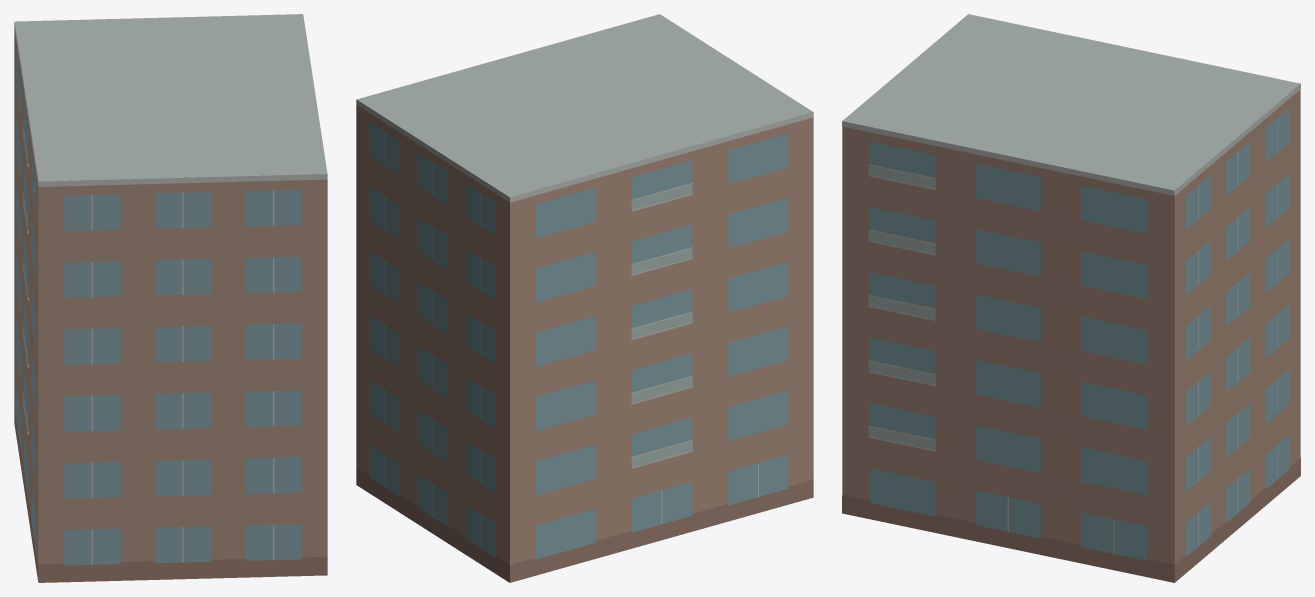
The model's file is survey-upis-32746316.glb.
3 views of the same model, side by side, from view 1: azimuth 30°, elevation 25°; view 2: azimuth 150°, elevation 25°; view 3: azimuth 270°, elevation 25° (orthographic). The views are drawn at different scales.
Parts seen in each view (by area): view 1: survey-upis-32746316.tmp; view 2: survey-upis-32746316.tmp; view 3: survey-upis-32746316.tmp.
Part boxes in pixels (x1,y1,x2,y2): survey-upis-32746316.tmp: (14, 14, 327, 582); survey-upis-32746316.tmp: (356, 14, 813, 582); survey-upis-32746316.tmp: (842, 14, 1300, 582).
Bounding box in the file's own units: 17.34 × 17.95 × 19.03.
